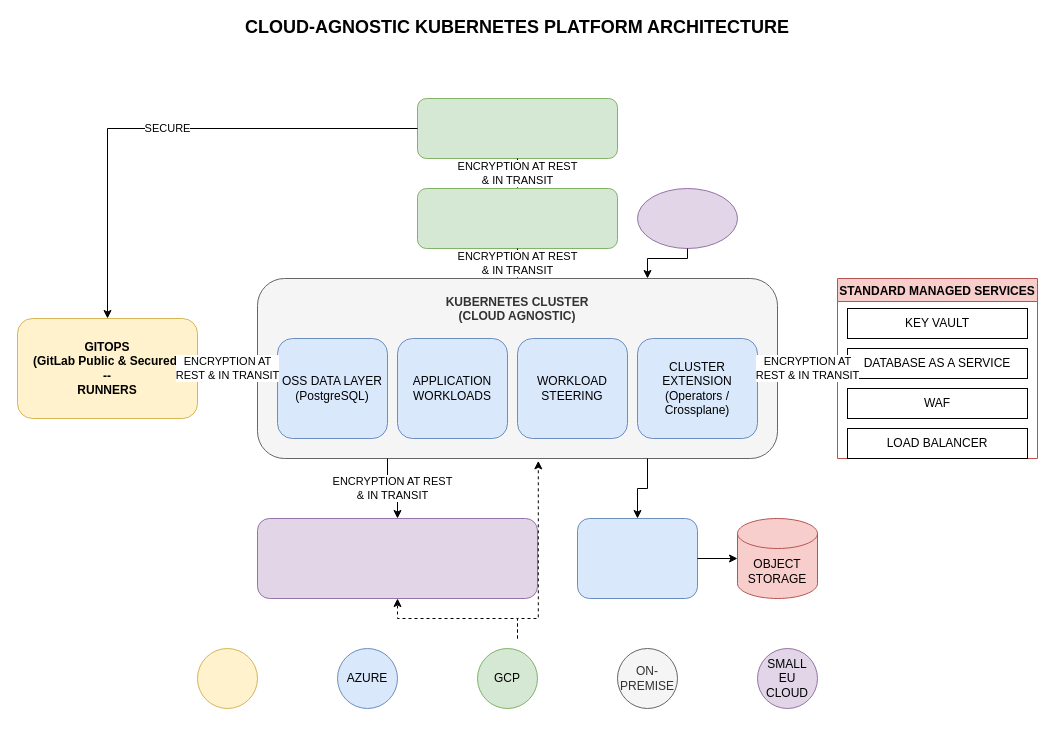
Some shapes in this 1055 by 736 pixel diagram are drawn without their labels. Here are the shapes that lost their labels. From the top down, the centre of each, then its label:
At point (517, 128): "UNIFIED IAM SOLUTION (Entra ID / Okta)".
At point (517, 218): "INFRASTRUCTURE AS CODE (IaC) (Terraform / Ansible)".
At point (687, 218): "HELM CHARTS (AGNOSTIC)".
At point (397, 558): "UNIFIED MONITORING & OBSERVABILITY STACK".
At point (637, 558): "BACKUPS".
At point (227, 678): "AWS".
